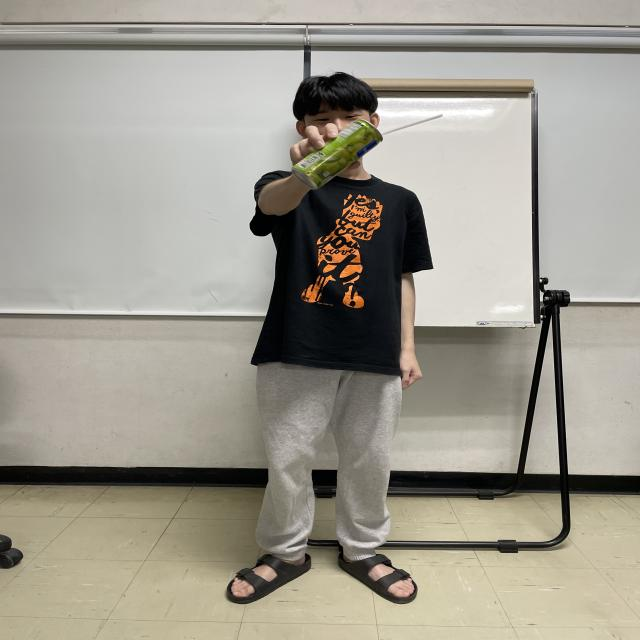can: (290, 118, 384, 191)
